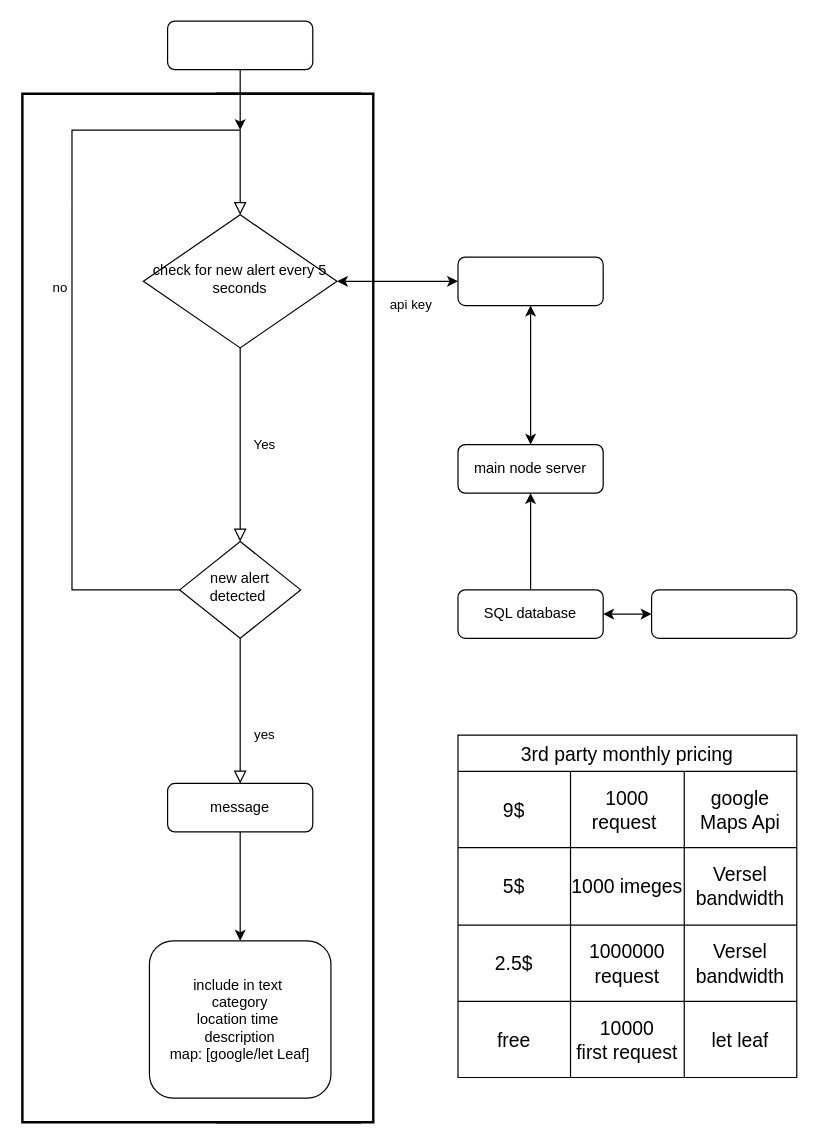
Image size: 818x1145. Some labels were removed from this diagram. The centre of each missing label's shape, as x and y in pixels:
Api call to red alerts server: the point at 530,281
telegram bot: the point at 239,45
vpn server: the point at 723,613
